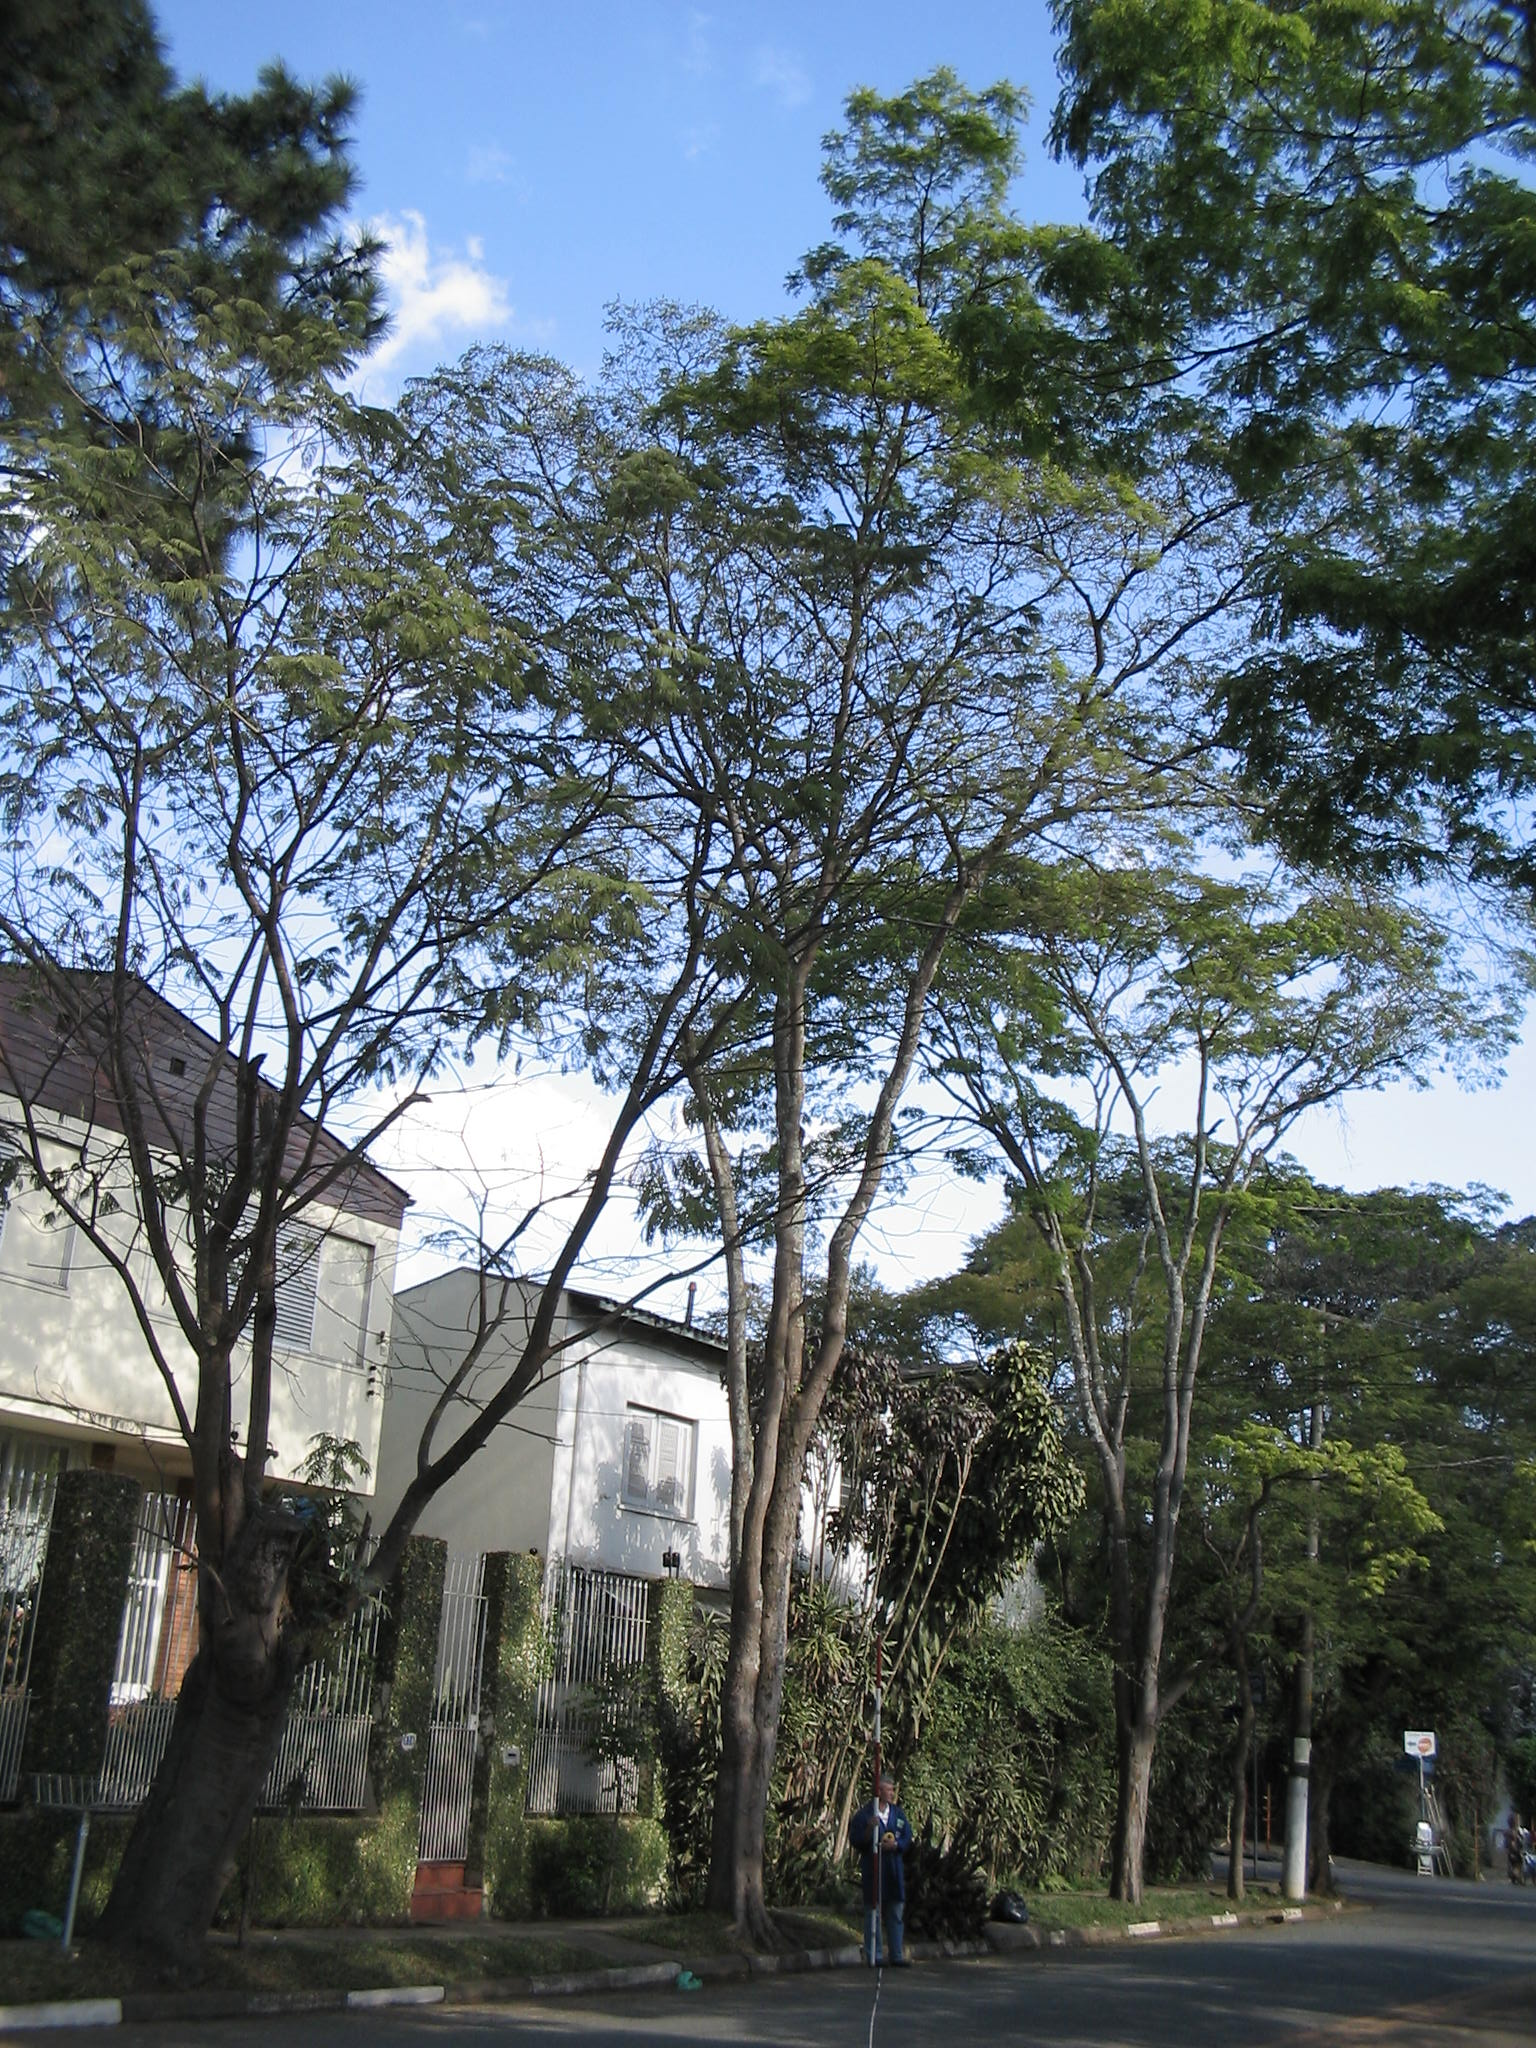crown: (379, 255, 1179, 1118), (858, 872, 1512, 1232)
stem: (657, 1709, 816, 1943), (1071, 1730, 1175, 1909)
stick: (845, 1635, 894, 1967)
tree: (374, 256, 1183, 1948), (857, 868, 1512, 1909)
